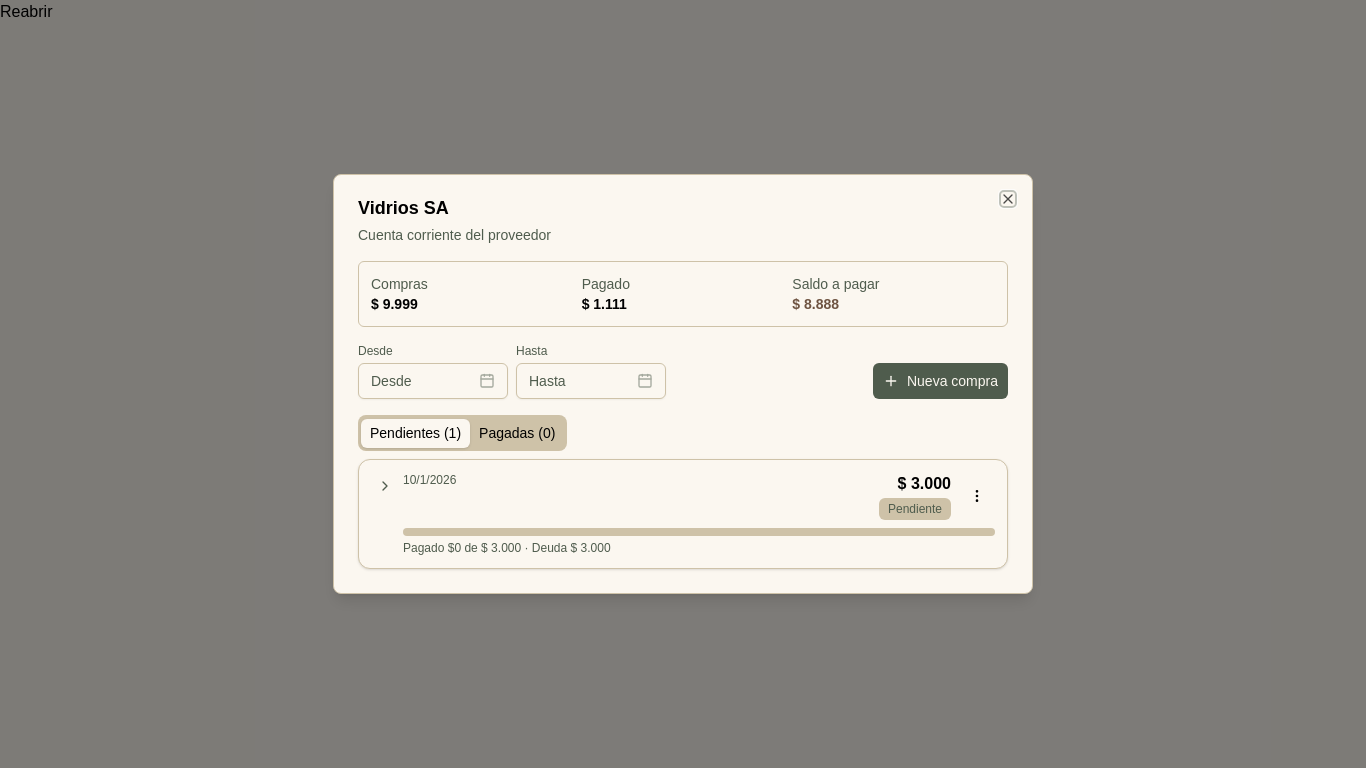
it: SupplierDetailsDialog › after paying a purchase fully › removes it from Pendientes and updates the tab counts
This screenshot has width=1366, height=768.
Step 1. Click the button named "Mostrar detalle de la compra" → click(385, 486), box x1=371 y1=472 x2=399 y2=500
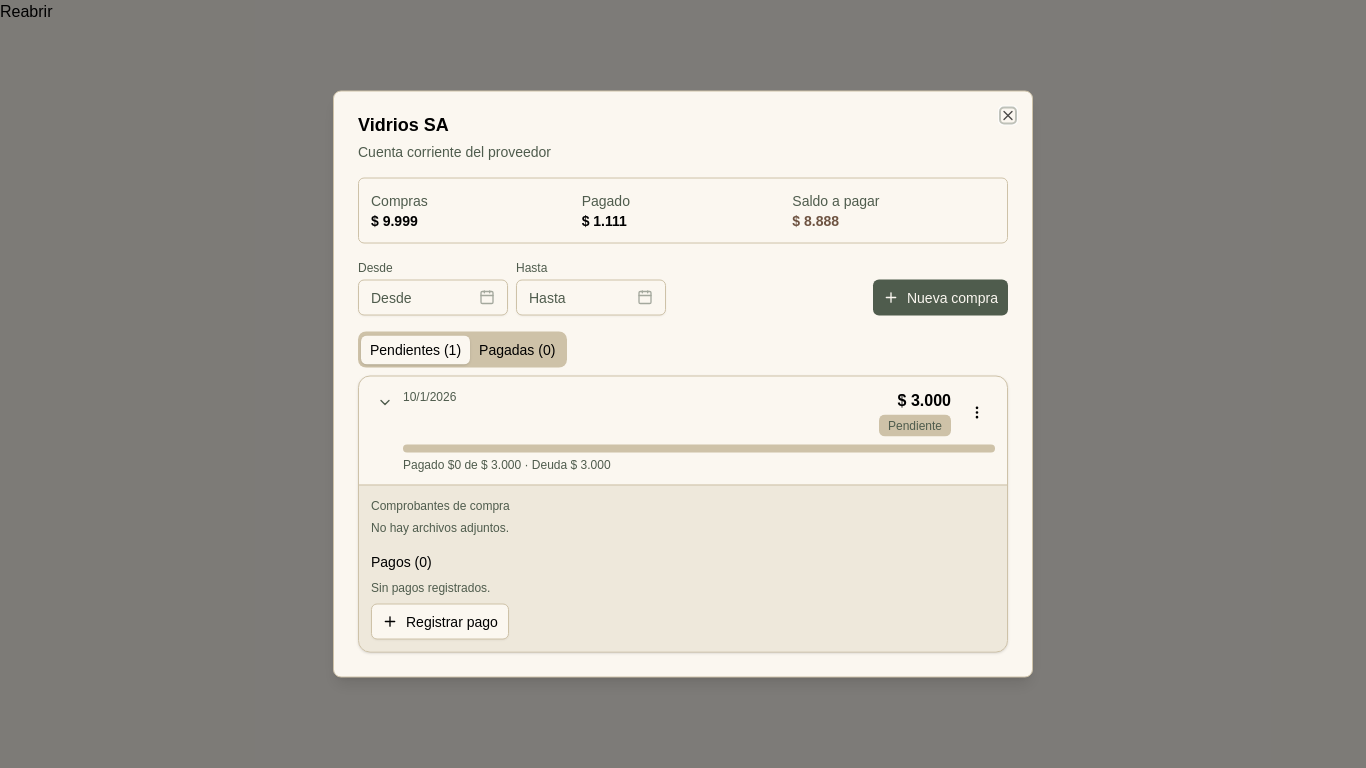
Step 2. Click the button "Registrar pago" → click(440, 622), box x1=371 y1=604 x2=509 y2=640
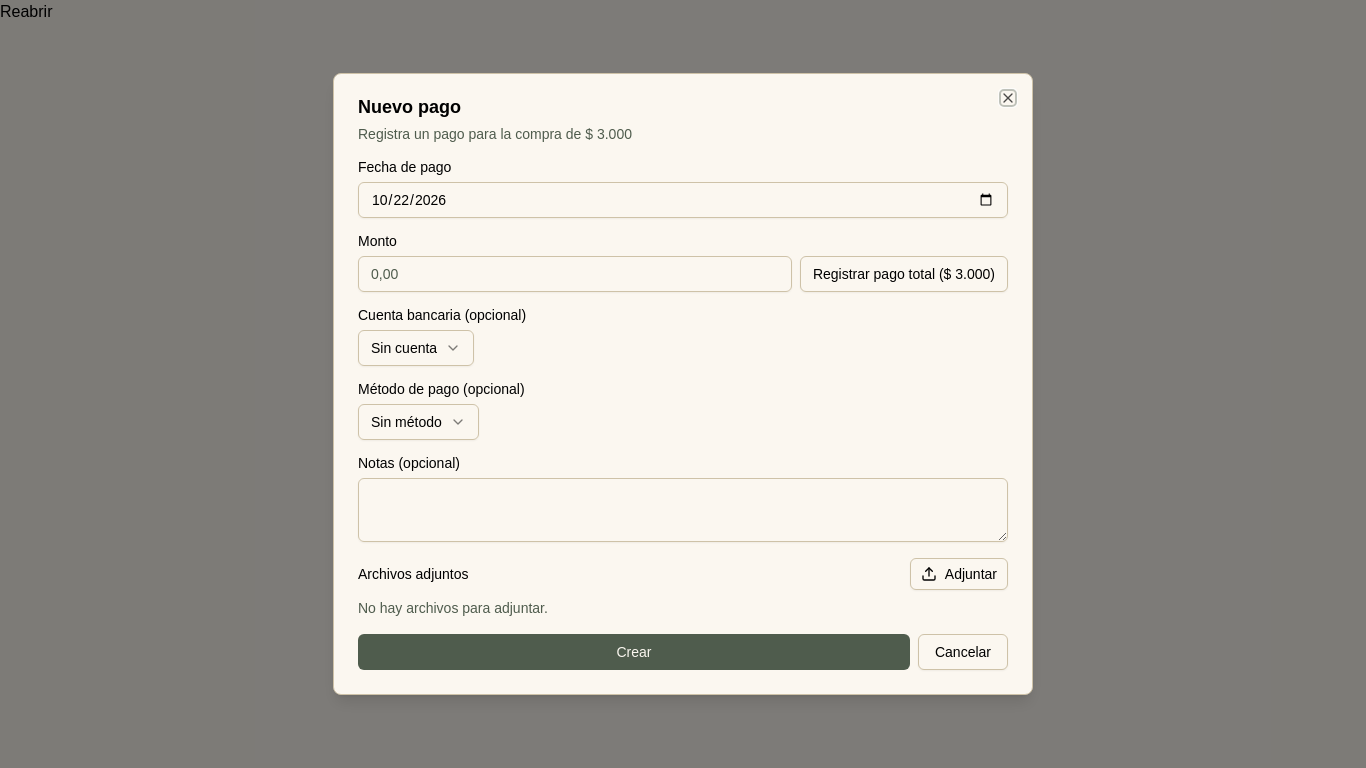
Step 3. Type "1000" into the field labelled "Monto" → (575, 274), box x1=358 y1=256 x2=792 y2=292
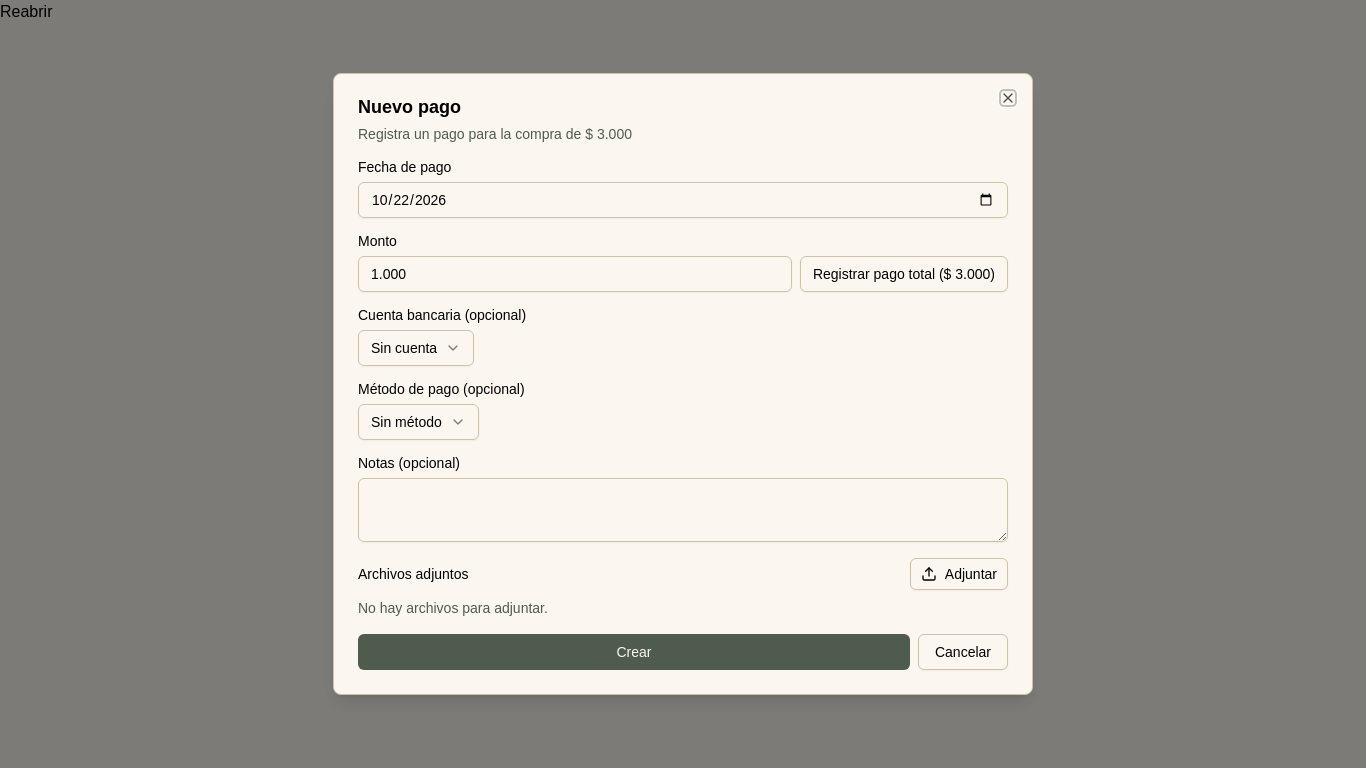
Step 4. Replace the text in the field labelled "Monto" with "5000" → (575, 274), box x1=358 y1=256 x2=792 y2=292
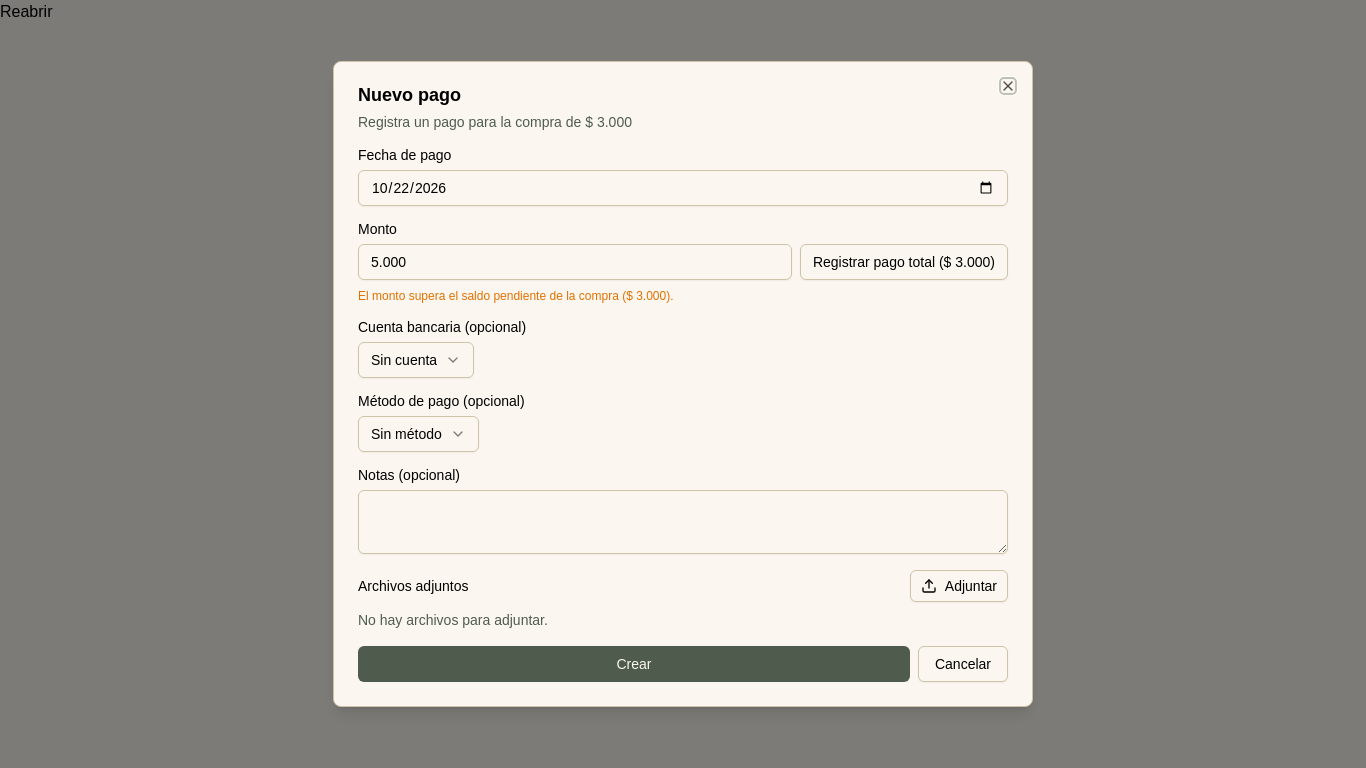
Step 5. Click the button "Crear" → click(634, 664), box x1=358 y1=646 x2=910 y2=682
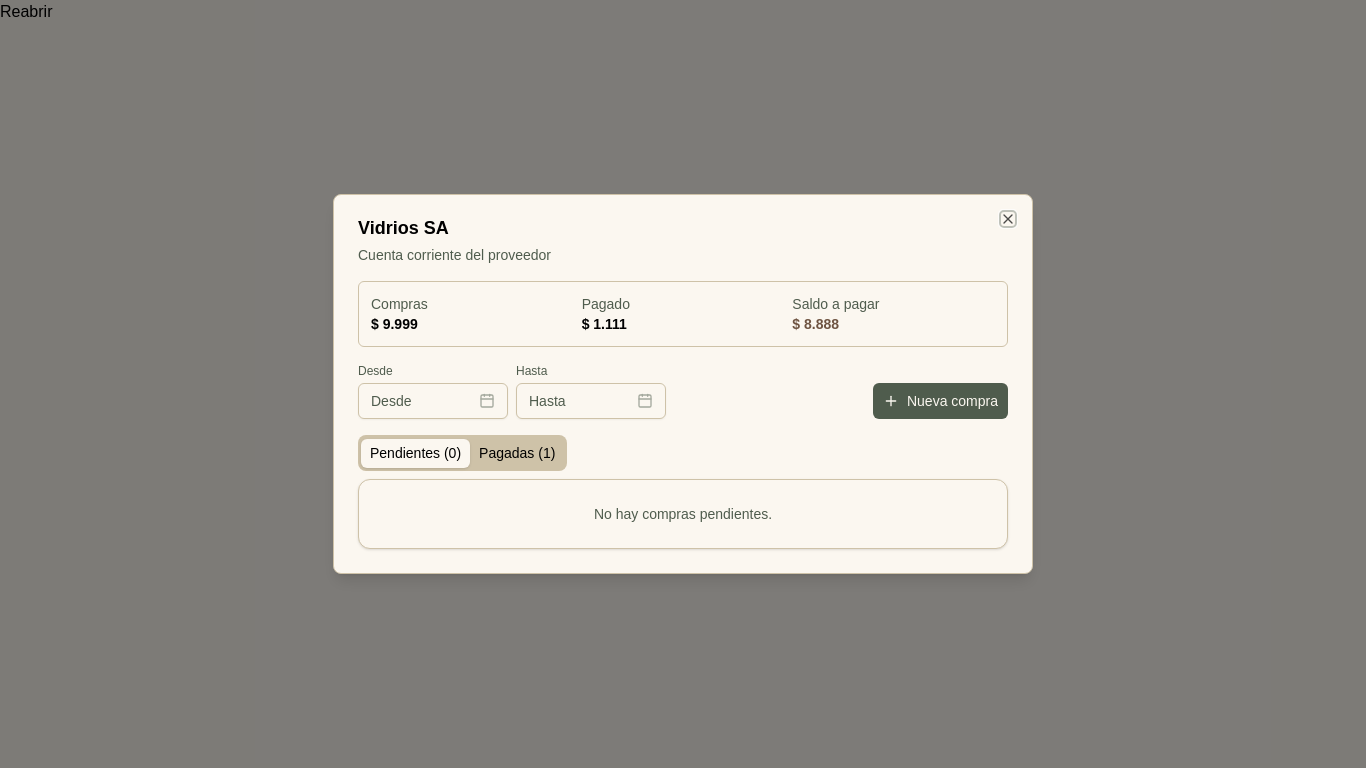
Check: the text "No hay compras pendientes." is shown, box x1=358 y1=479 x2=1008 y2=549
Check: the tab "Pendientes (0)" is shown, box x1=361 y1=438 x2=470 y2=468
Check: the tab "Pagadas (1)" is shown, box x1=470 y1=438 x2=564 y2=468
